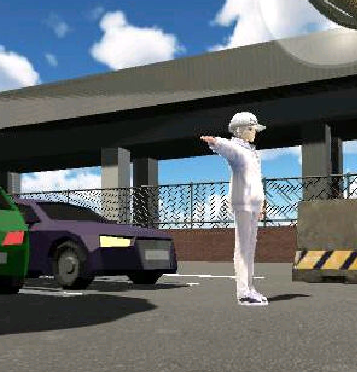singleP_left: (199, 108, 277, 311)
